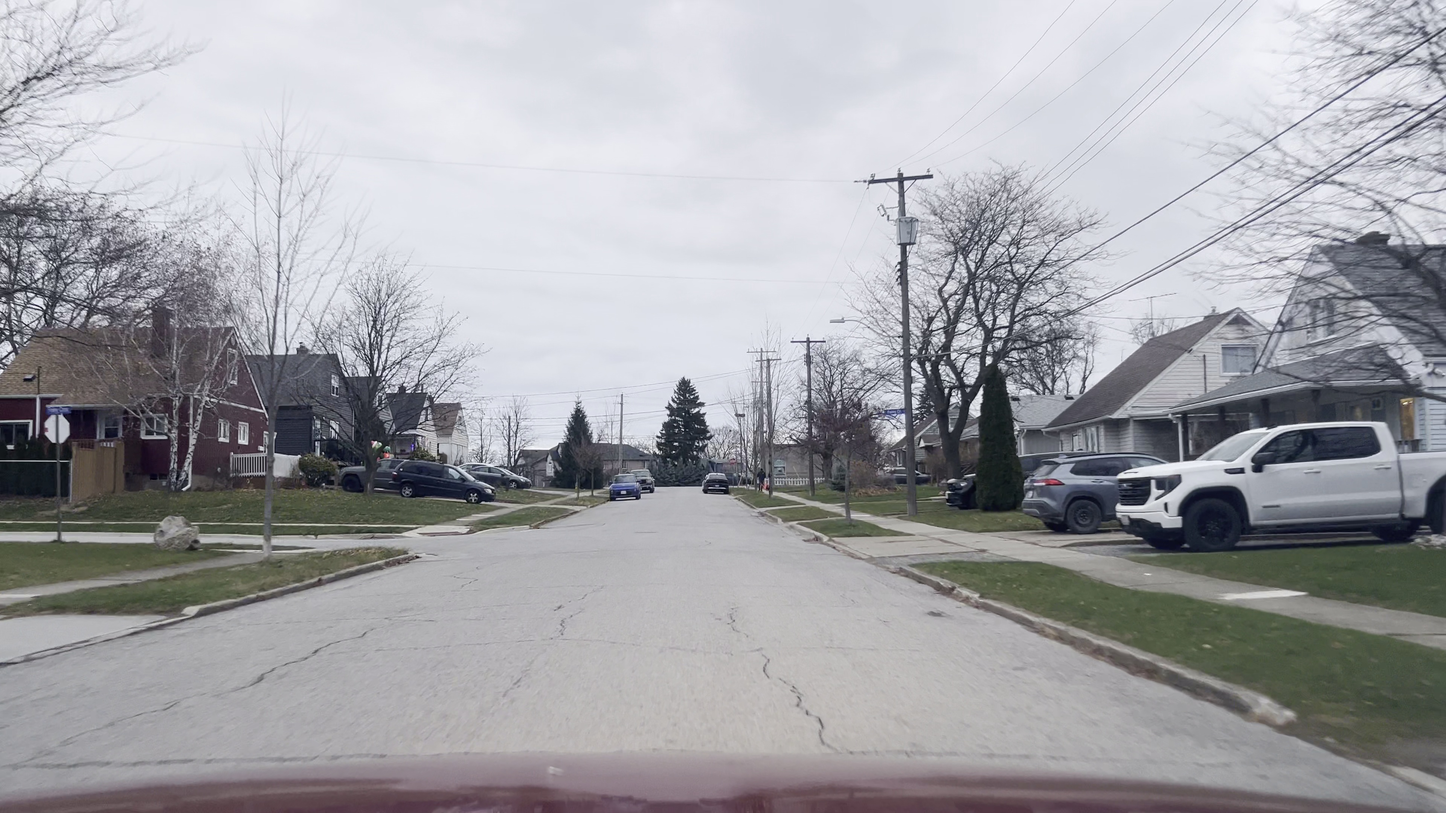cracks: (742, 644, 840, 749), (228, 630, 383, 696), (900, 592, 959, 630)
